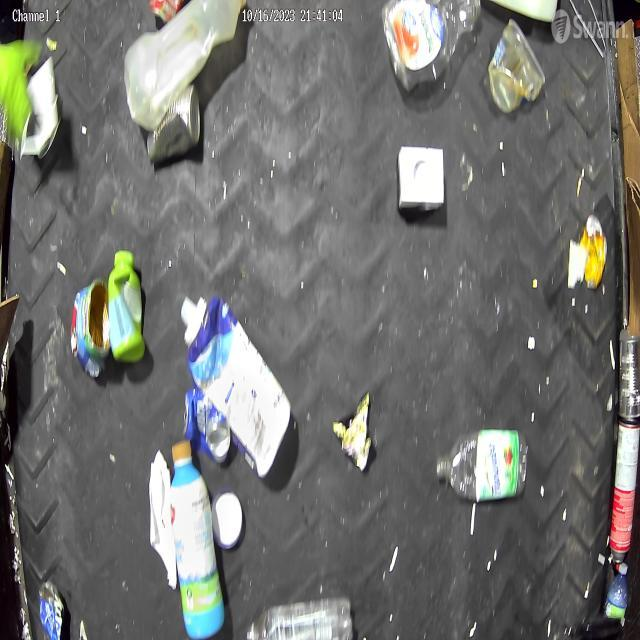can: (146, 82, 202, 166), (70, 278, 111, 378), (183, 389, 231, 463), (579, 214, 608, 288), (618, 326, 640, 416), (39, 578, 65, 640)
milk_jug: (123, 0, 247, 133)
plastic_bottle: (436, 426, 528, 499), (246, 594, 354, 640), (598, 561, 628, 640)
